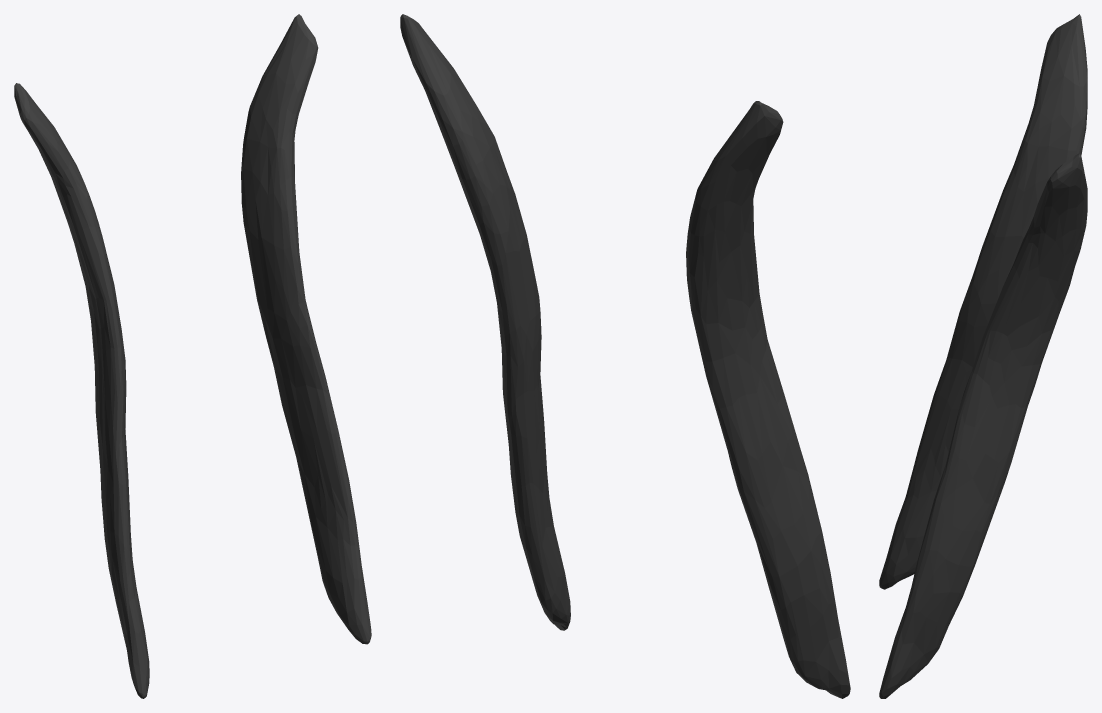
File: m_sartorius_caudalis.glb
3 views of the same model, side by side, from view 1: azimuth 30°, elevation 25°; view 2: azimuth 150°, elevation 25°; view 3: azimuth 270°, elevation 25° (orthographic). The views are drawn at different scales.
Visible parts, largest first — view 1: m_sartorius_caudalis; view 2: m_sartorius_caudalis; view 3: m_sartorius_caudalis.
Boxes of the visible parts, x1=… form: m_sartorius_caudalis: x1=14, y1=14, x2=371, y2=698; m_sartorius_caudalis: x1=400, y1=14, x2=850, y2=698; m_sartorius_caudalis: x1=879, y1=14, x2=1087, y2=698.
Size of the model in its own units: 0.00428 by 0.00763 by 0.00258.
Materials: 1 (1 with a texture image).
